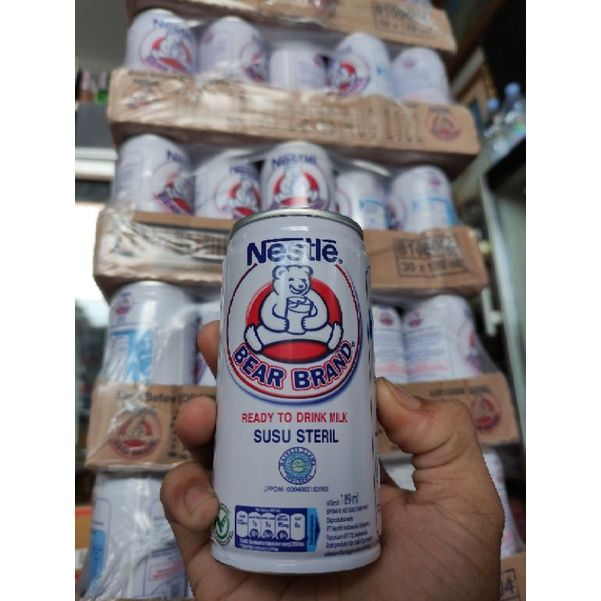Bear Brand Susu Steril (189ml): (219, 218, 381, 575), (77, 474, 178, 588), (96, 289, 190, 392), (403, 305, 491, 369), (197, 13, 272, 88), (122, 128, 187, 213), (261, 139, 327, 216), (117, 8, 188, 77), (336, 30, 392, 110), (197, 136, 256, 211), (382, 164, 451, 226), (398, 43, 450, 118), (277, 24, 325, 90)
